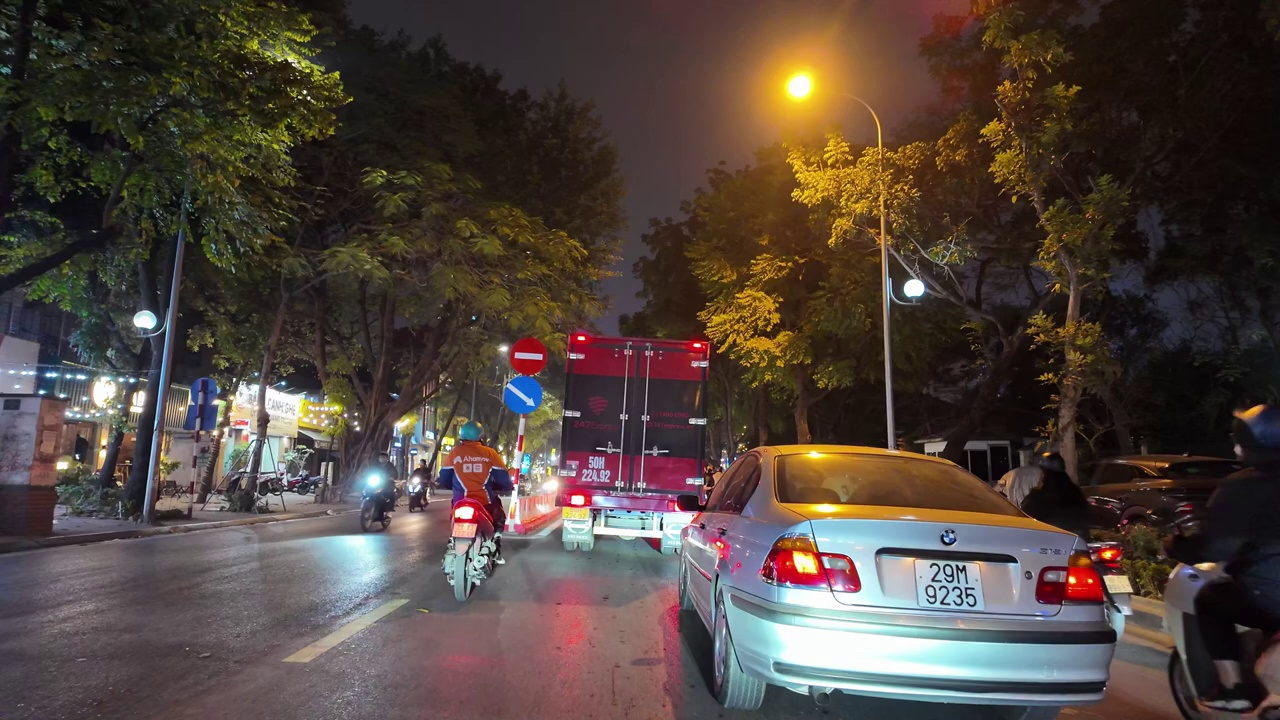acesa: (770, 60, 829, 117)
